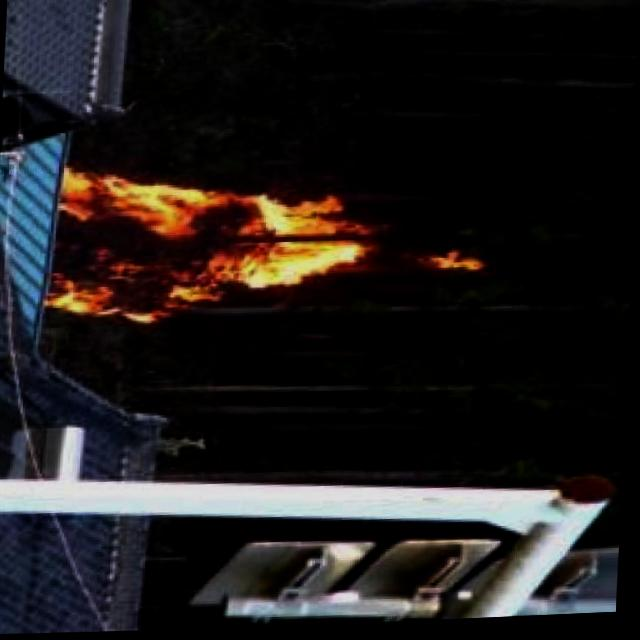Fire: (50, 159, 392, 332), (400, 248, 491, 281)
